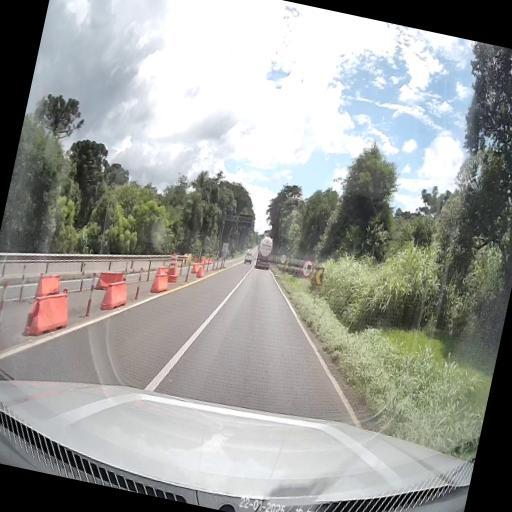R-19: (278, 253, 286, 264)
